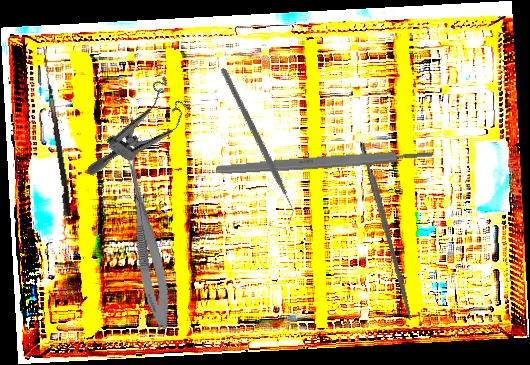Chopper: (170, 67, 342, 225)
Hook Surgical: (35, 47, 75, 217)
Micro Scissor: (114, 152, 178, 332)
Scalpel Handle: (359, 141, 415, 321), (215, 148, 434, 177)
Speculum: (84, 68, 199, 202)
